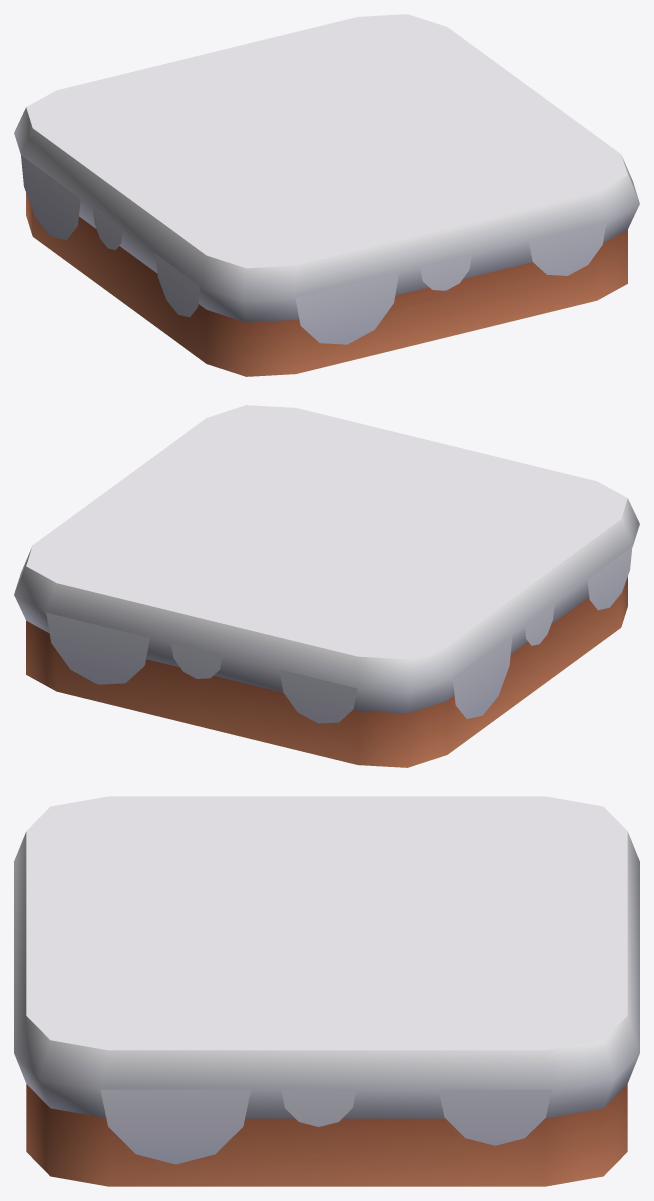
File: kenney-platformer-block-snow-overhang-low-large.glb
The picture shows the model from 3 angles, top to bottom: view 1: azimuth 30°, elevation 25°; view 2: azimuth 150°, elevation 25°; view 3: azimuth 270°, elevation 25°; orthographic projection. The views are drawn at different scales.
Visible parts, largest first — view 1: block-snow-overhang-low-large; view 2: block-snow-overhang-low-large; view 3: block-snow-overhang-low-large.
Part boxes in pixels (x1,y1,x2,y2): block-snow-overhang-low-large: (14, 14, 639, 376); block-snow-overhang-low-large: (14, 405, 639, 767); block-snow-overhang-low-large: (14, 796, 639, 1186).
Bounding box in the file's own units: 2.08 × 0.5 × 2.08.
Materials: 1 (1 with a texture image).
